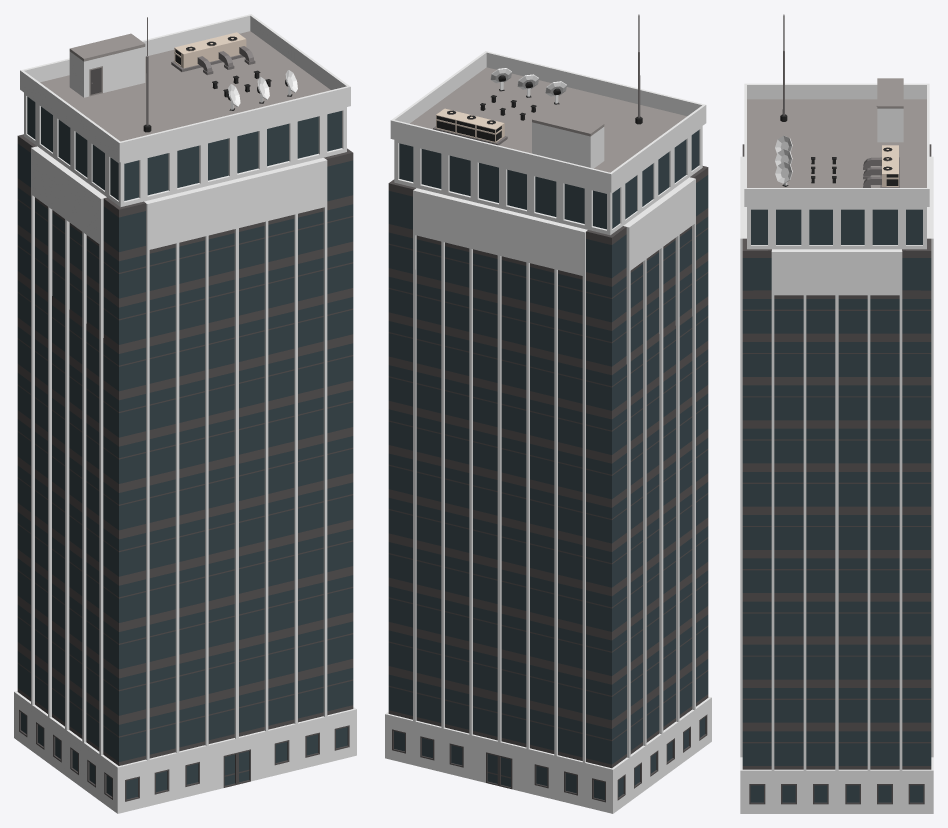
Rendered from buildings_building-office-tall.fbx.
3 renders of one model, left to right at view 1: azimuth 30°, elevation 25°; view 2: azimuth 150°, elevation 25°; view 3: azimuth 270°, elevation 25°, orthographic. The views are drawn at different scales.
Parts seen in each view (by area): view 1: buildings_building_office_tall; view 2: buildings_building_office_tall; view 3: buildings_building_office_tall.
Boxes of the visible parts, bbox=[...] form: buildings_building_office_tall: bbox=[14, 14, 356, 813]; buildings_building_office_tall: bbox=[385, 14, 711, 813]; buildings_building_office_tall: bbox=[740, 14, 933, 813].
Bounding box in the file's own units: 65.24 × 200 × 49.
